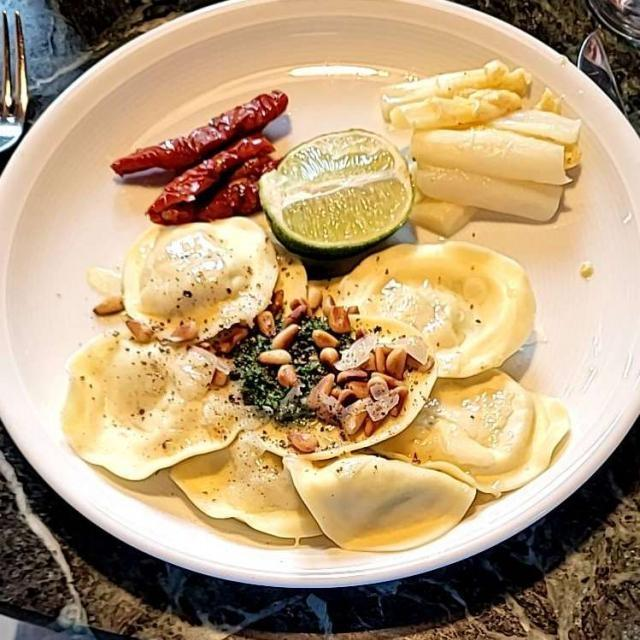asparagus: (390, 70, 586, 227)
nuts: (87, 298, 417, 443)
sauce: (222, 294, 345, 442)
tomato: (122, 101, 289, 221)
